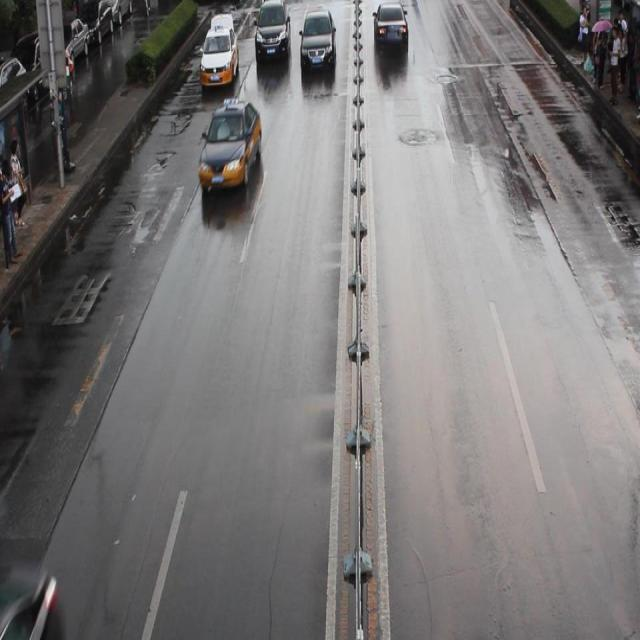car: (197, 97, 261, 190), (199, 26, 239, 87), (299, 10, 336, 72), (254, 1, 291, 62), (372, 1, 408, 55)
